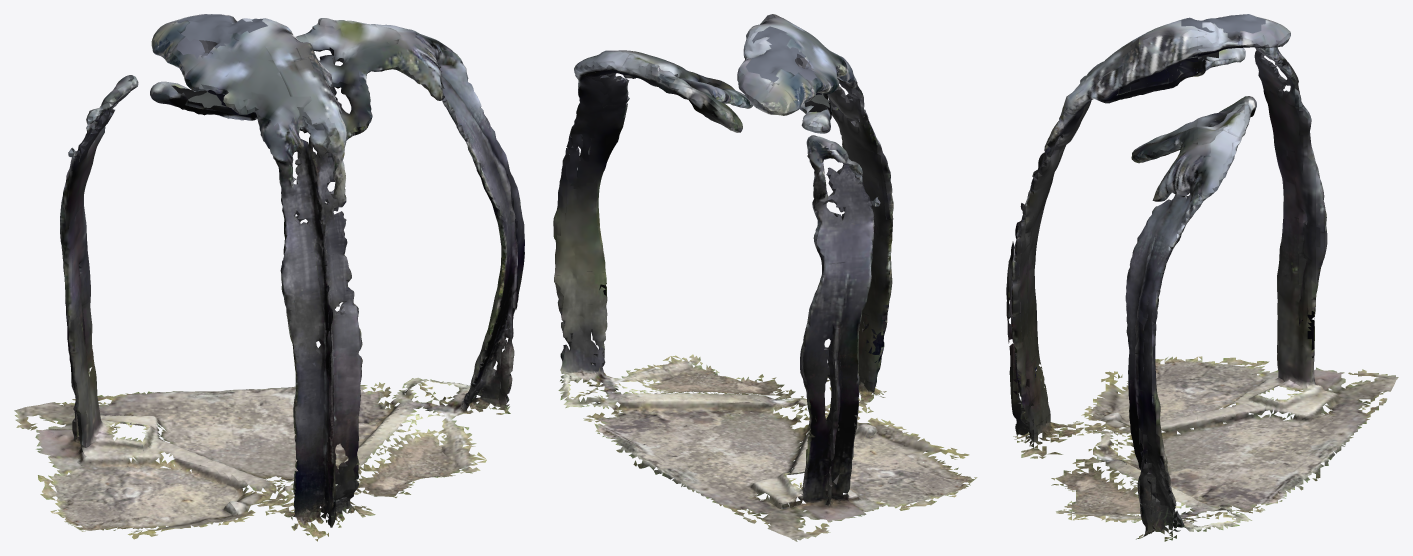
File: M07_AlViento.glb
3 renders of one model, left to right at view 1: azimuth 30°, elevation 25°; view 2: azimuth 150°, elevation 25°; view 3: azimuth 270°, elevation 25°, orthographic. The views are drawn at different scales.
Parts seen in each view (by area): view 1: modelo; view 2: modelo; view 3: modelo.
Boxes of the visible parts, bbox=[...] form: modelo: bbox=[14, 14, 524, 541]; modelo: bbox=[553, 14, 977, 541]; modelo: bbox=[1006, 14, 1398, 541].
Bounding box in the file's own units: 2.76 × 2.61 × 2.15.
Materials: 1 (1 with a texture image).
